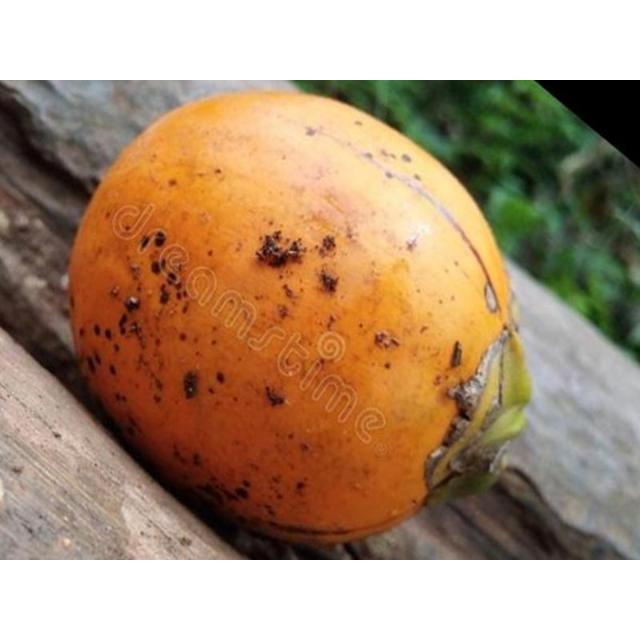good: (66, 91, 528, 545)
